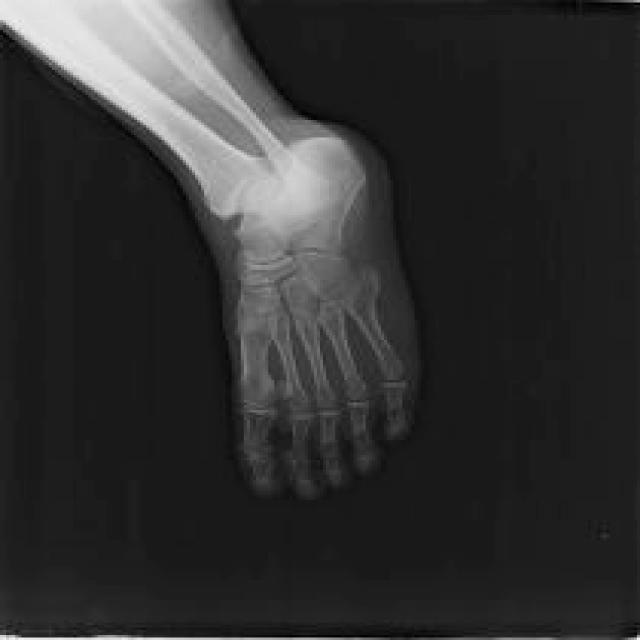normal: (3, 0, 413, 498)
